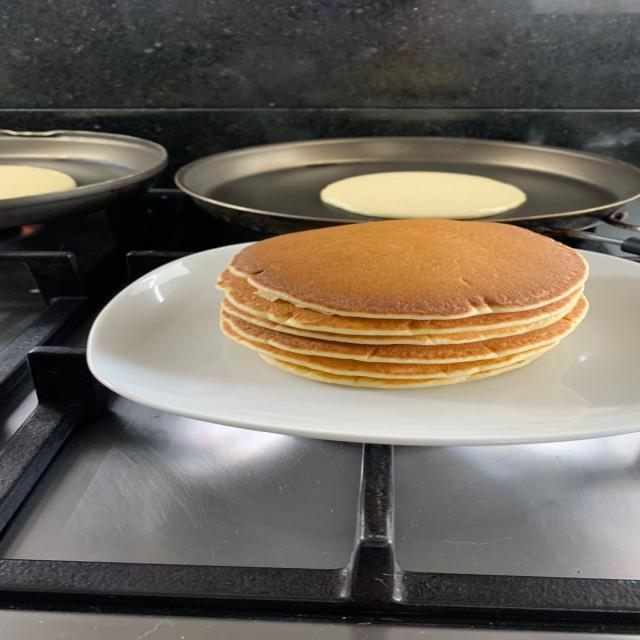pancake: (230, 220, 587, 319), (222, 297, 587, 364), (218, 270, 582, 335), (221, 317, 557, 379), (222, 299, 567, 345), (320, 171, 526, 219), (259, 354, 542, 388), (0, 165, 76, 199)
